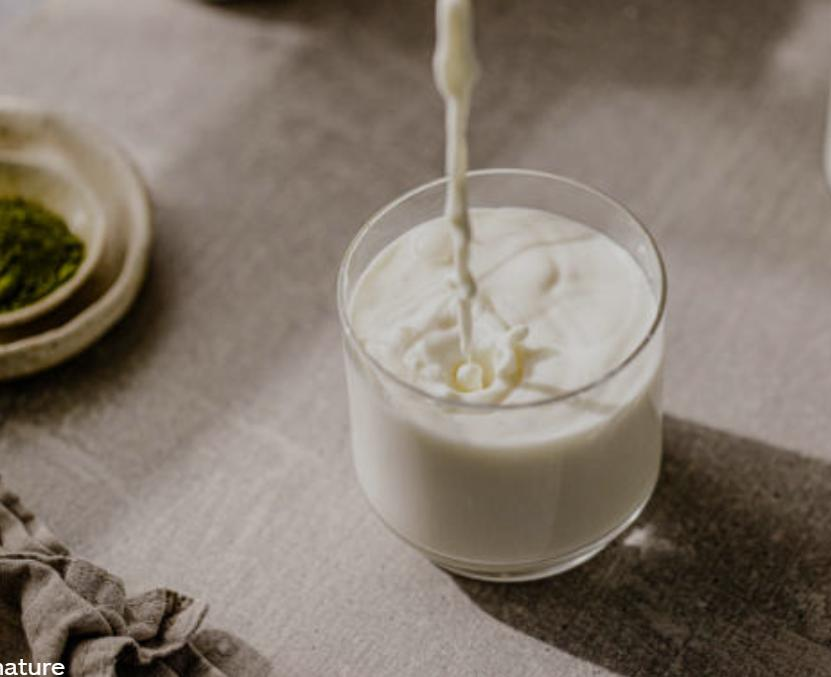produk_susu: (344, 188, 661, 536)
